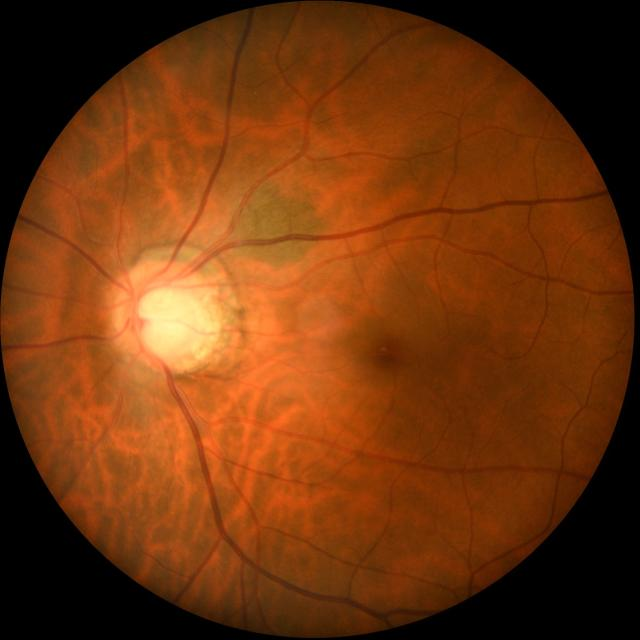OC: (133, 283, 204, 356)
OD: (114, 260, 218, 370)
